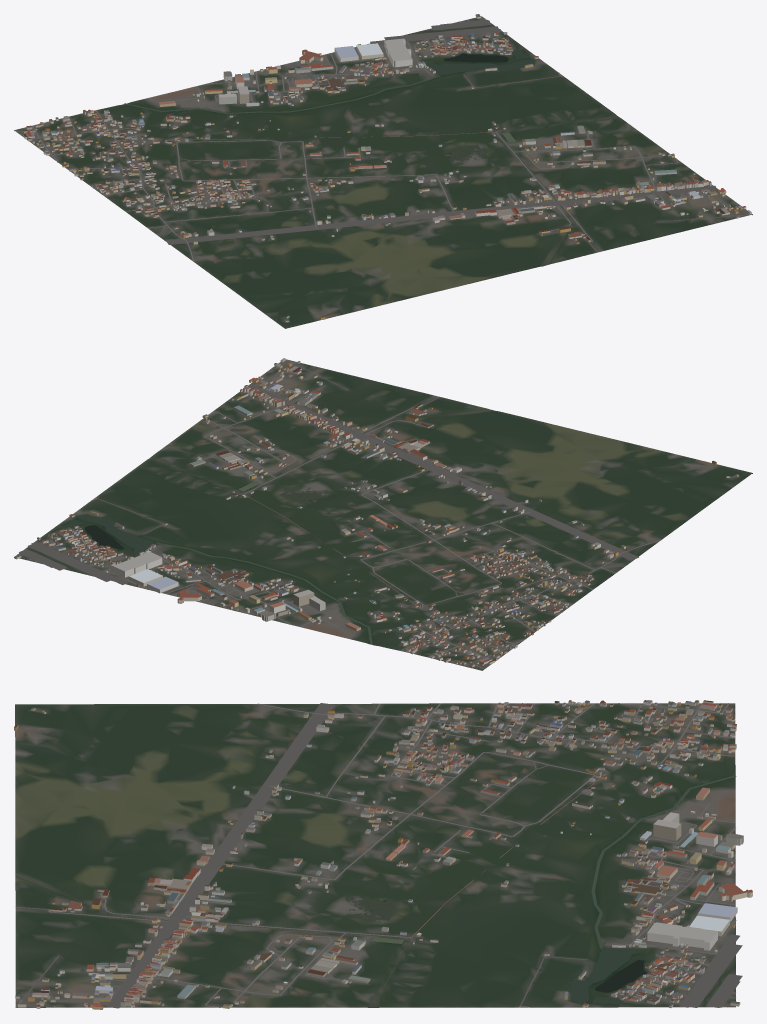
3 renders of one model, top to bottom at view 1: azimuth 30°, elevation 25°; view 2: azimuth 150°, elevation 25°; view 3: azimuth 270°, elevation 25°, orthographic. The views are drawn at different scales.
Visible parts, largest first — view 1: ground, buildings, roads, water; view 2: ground, buildings, roads, water; view 3: ground, buildings, roads, water.
Part boxes in pixels (box(x1,y1,x2,y2)): ground: box(14, 16, 752, 328); buildings: box(23, 14, 751, 322); roads: box(16, 18, 752, 318); water: box(124, 50, 617, 265); ground: box(14, 359, 752, 670); buildings: box(14, 358, 738, 667); roads: box(17, 359, 711, 669); water: box(63, 410, 492, 644); ground: box(15, 703, 735, 1007); buildings: box(14, 700, 752, 1009); roads: box(15, 703, 742, 1008); water: box(15, 775, 736, 1007).
Bounding box in the file's own units: 1415 × 31.17 × 1438.
